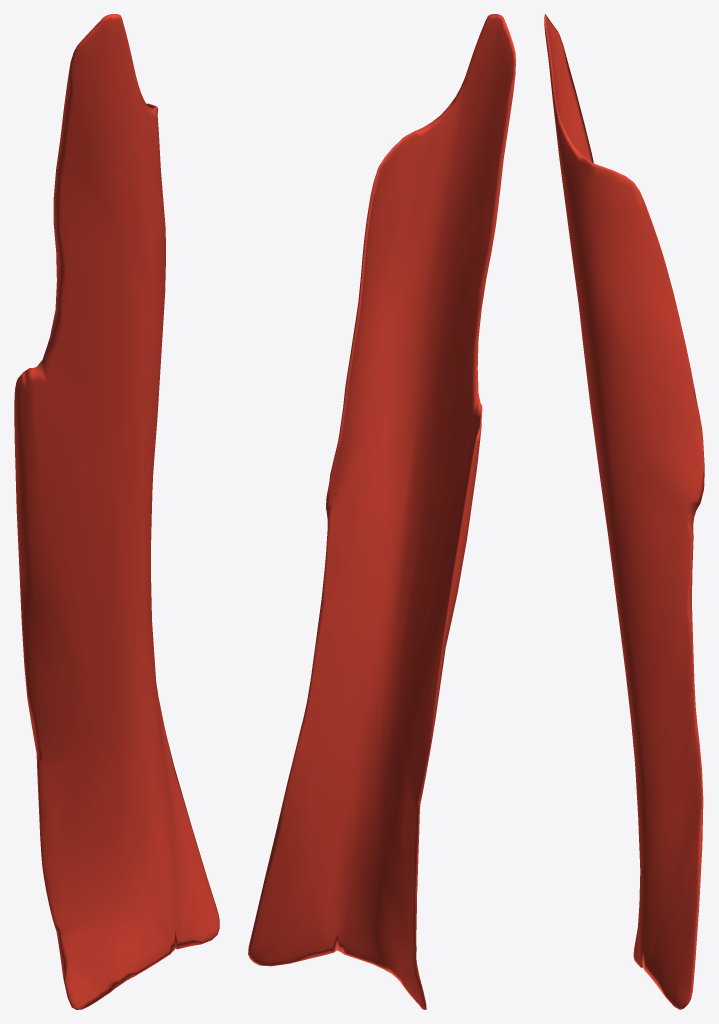
File: Brachialis_anterior_muscle-Humeral_insertion.l_Generated_Mesh_F.glb
The picture shows the model from 3 angles, left to right: view 1: azimuth 30°, elevation 25°; view 2: azimuth 150°, elevation 25°; view 3: azimuth 270°, elevation 25°; orthographic projection. The views are drawn at different scales.
Visible parts, largest first — view 1: Brachialis_anterior_muscle-Humeral_insertion.l_Generated_Mes; view 2: Brachialis_anterior_muscle-Humeral_insertion.l_Generated_Mes; view 3: Brachialis_anterior_muscle-Humeral_insertion.l_Generated_Mes.
Part boxes in pixels (x1,y1,x2,y2): Brachialis_anterior_muscle-Humeral_insertion.l_Generated_Mes: (14, 14, 219, 1009); Brachialis_anterior_muscle-Humeral_insertion.l_Generated_Mes: (248, 14, 515, 1009); Brachialis_anterior_muscle-Humeral_insertion.l_Generated_Mes: (544, 14, 704, 1009).
Size of the model in its own units: 0.0366 by 0.1613 by 0.0251.
